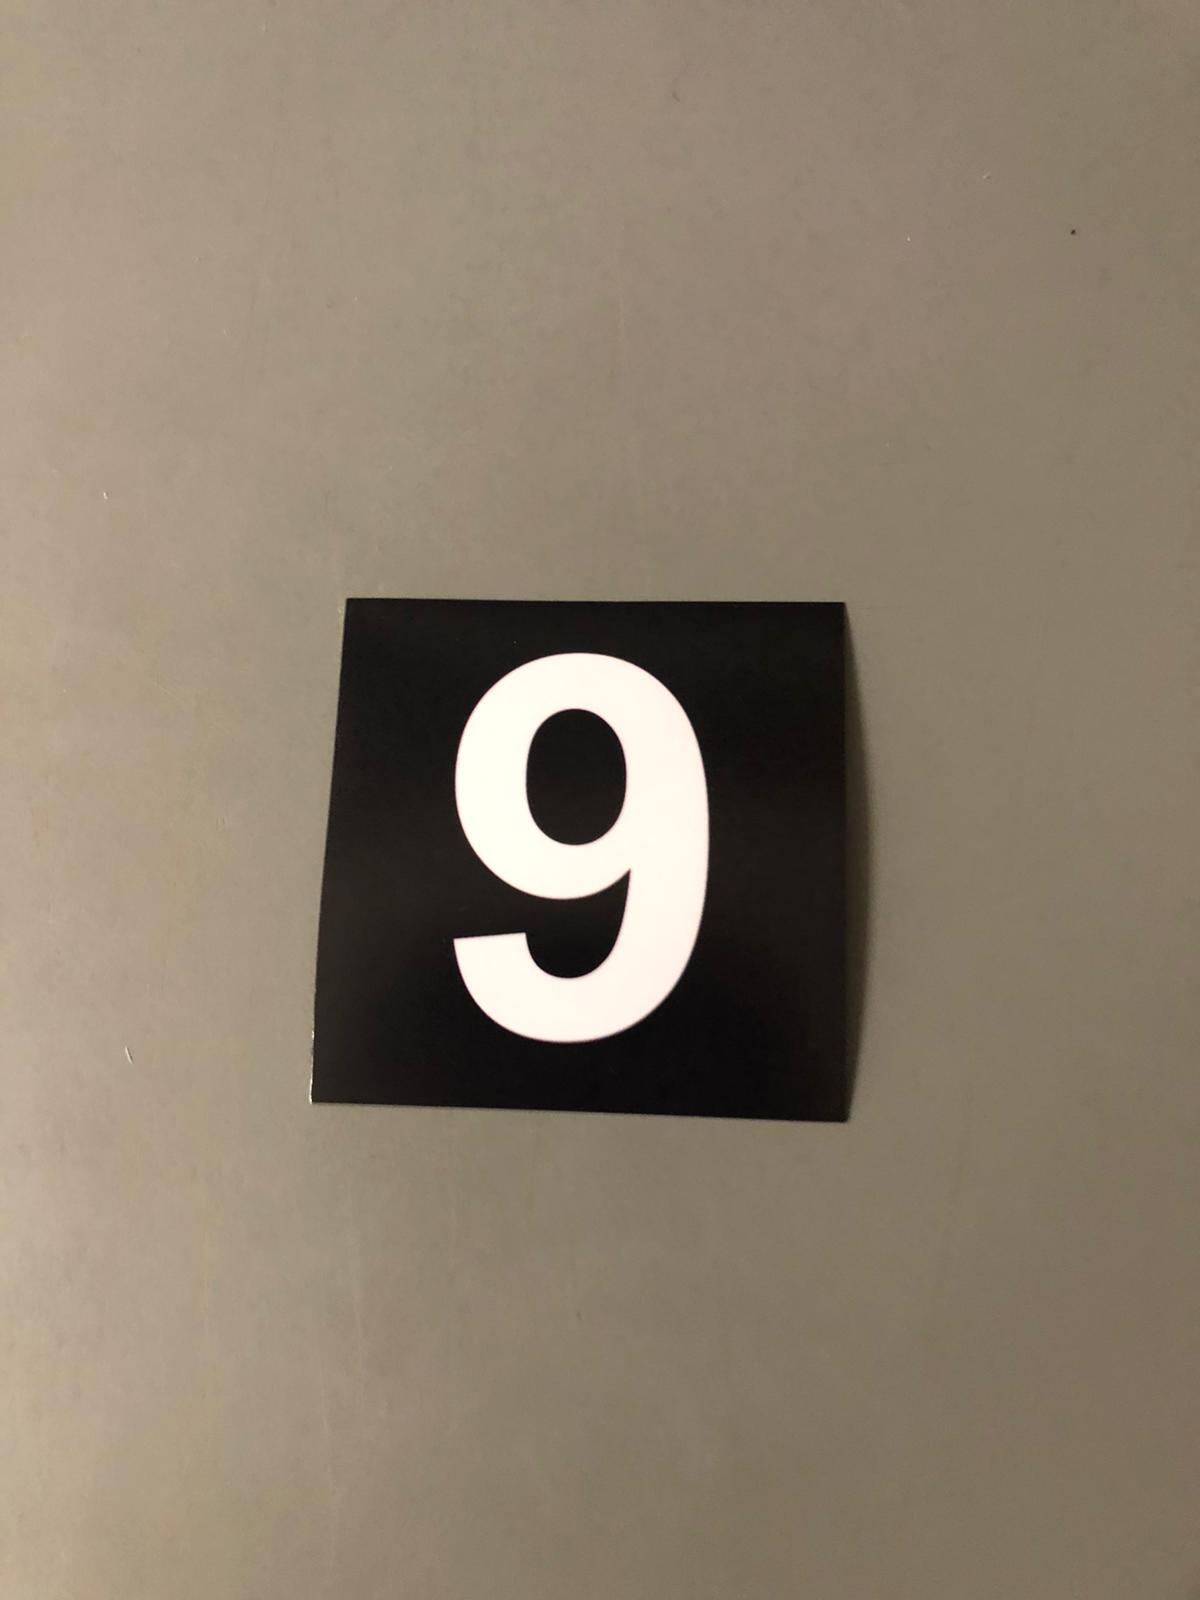Number 9: (345, 619, 824, 1105)
